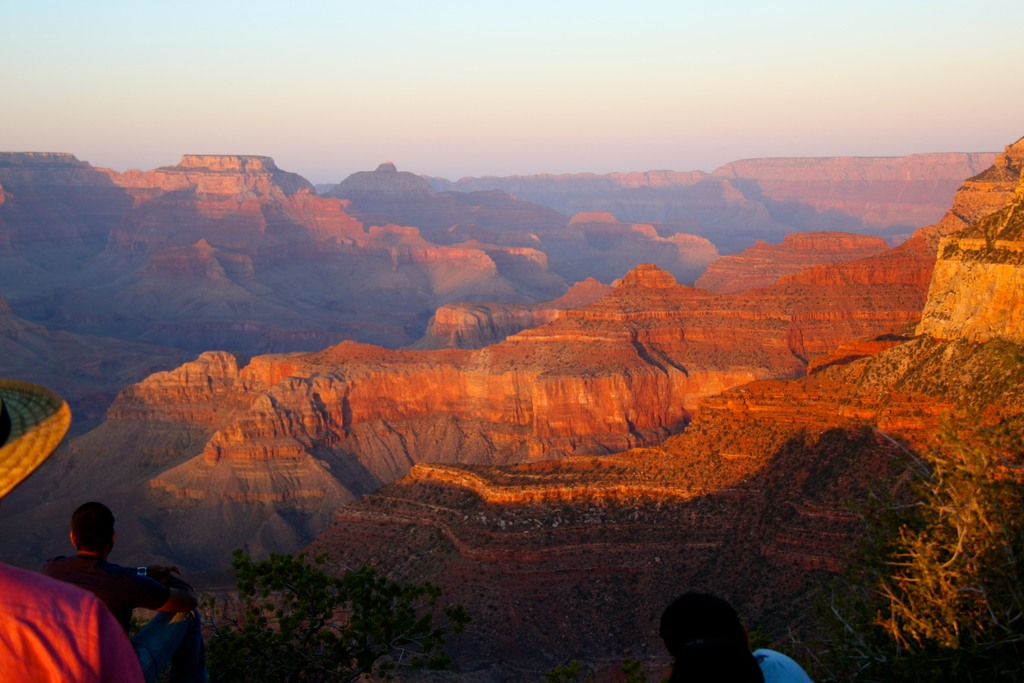Human_hand: (150, 564, 196, 591)
